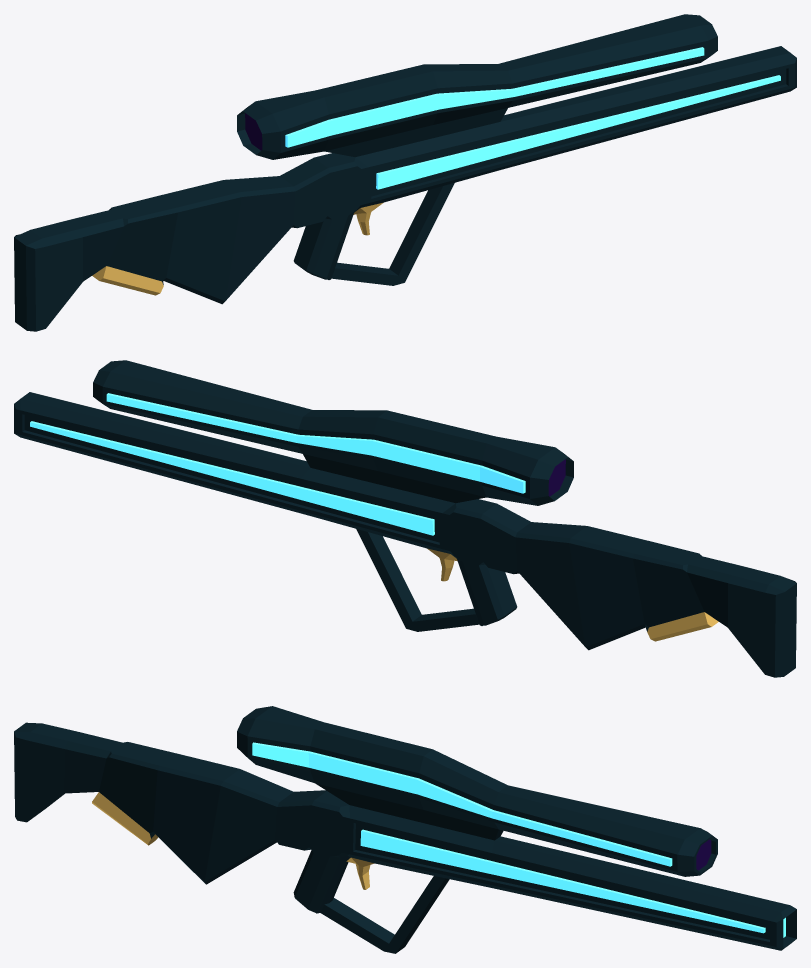
Rendered from sniper_rifle.glb.
The picture shows the model from 3 angles, top to bottom: view 1: azimuth 30°, elevation 25°; view 2: azimuth 150°, elevation 25°; view 3: azimuth 330°, elevation 25°; orthographic projection.
Parts seen in each view (by area): view 1: SniperRifle; view 2: SniperRifle; view 3: SniperRifle.
Part boxes in pixels (<box>): SniperRifle: <box>14,14,796,331</box>; SniperRifle: <box>14,360,796,677</box>; SniperRifle: <box>14,706,796,953</box>.
Bounding box in the file's own units: 0.934 × 0.238 × 0.0747.
